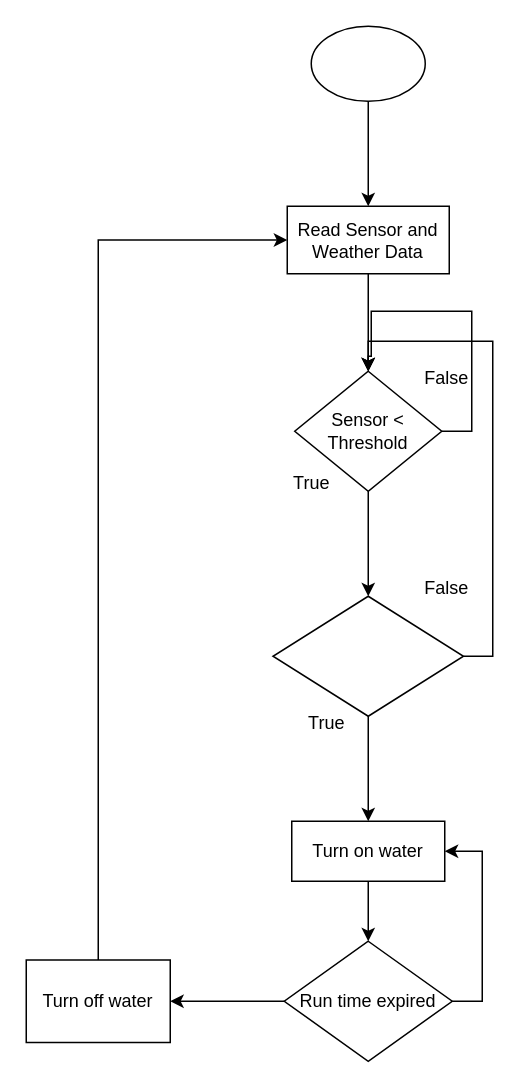
This 531x1088 diagram has some shape labels left out. The shapes that lost their labels are listed below. From the top down, each one's centre as x and y in pixels, then its label:
At [367,63]: "Begin".
At [368,655]: "Rain chance < 50% in next 24 hours".
